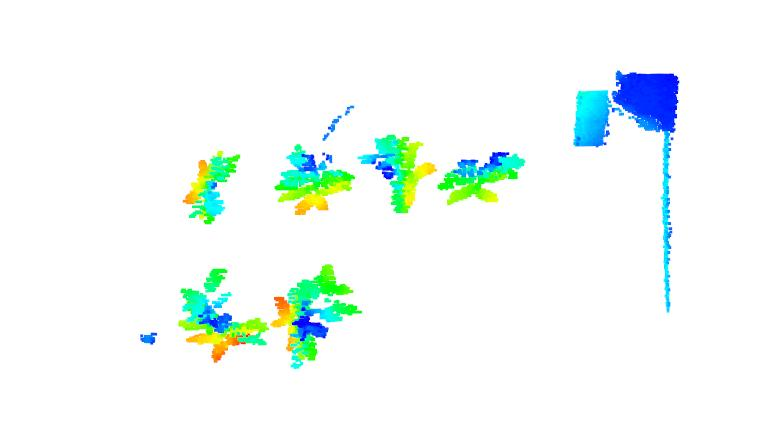chickpea: (265, 264, 366, 365), (178, 269, 268, 363), (273, 143, 355, 217), (364, 132, 435, 212), (434, 148, 528, 208), (182, 148, 242, 225)
